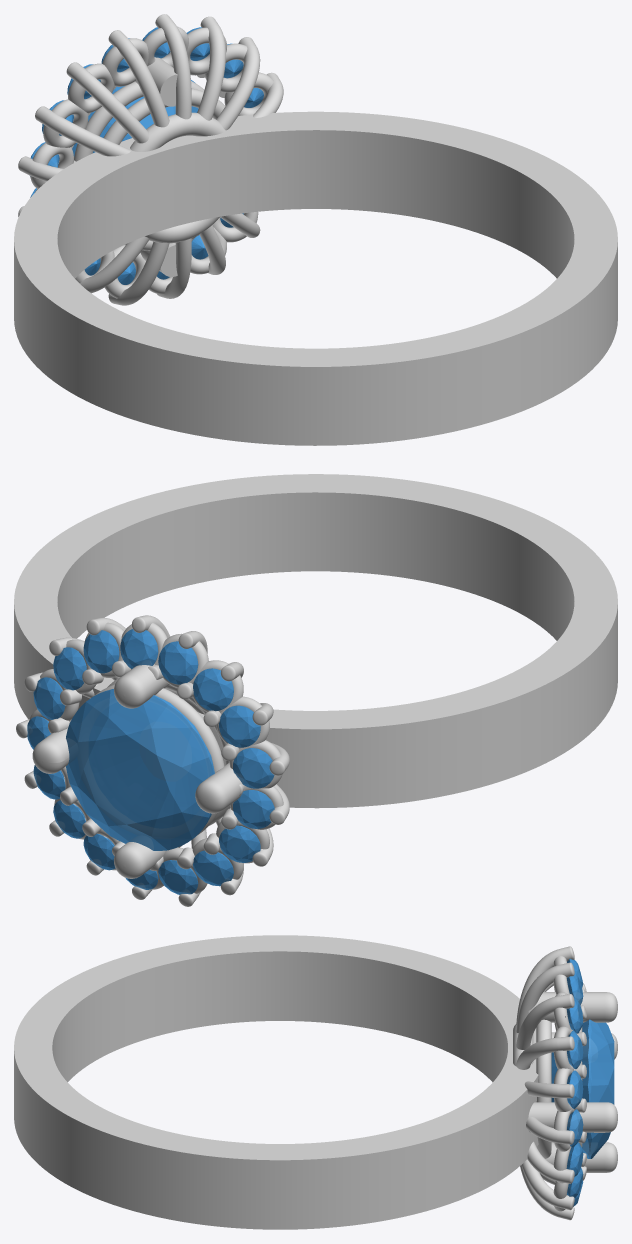
The model's file is anelpedraazul.glb.
3 views of the same model, one above another, from view 1: azimuth 30°, elevation 25°; view 2: azimuth 150°, elevation 25°; view 3: azimuth 270°, elevation 25° (orthographic). The views are drawn at different scales.
Visible parts, largest first — view 1: 3DGeom~1_Defintion, 3DGeom~2_Defintion; view 2: 3DGeom~1_Defintion, 3DGeom~2_Defintion; view 3: 3DGeom~1_Defintion, 3DGeom~2_Defintion.
Part boxes in pixels (x1,y1,x2,y2): 3DGeom~1_Defintion: (14,14,617,445); 3DGeom~2_Defintion: (30,27,263,284); 3DGeom~1_Defintion: (14,474,617,906); 3DGeom~2_Defintion: (27,629,274,894); 3DGeom~1_Defintion: (14,935,617,1229); 3DGeom~2_Defintion: (551,958,614,1206).
Bounding box in the file's own units: 20.83 × 10.74 × 23.63.
